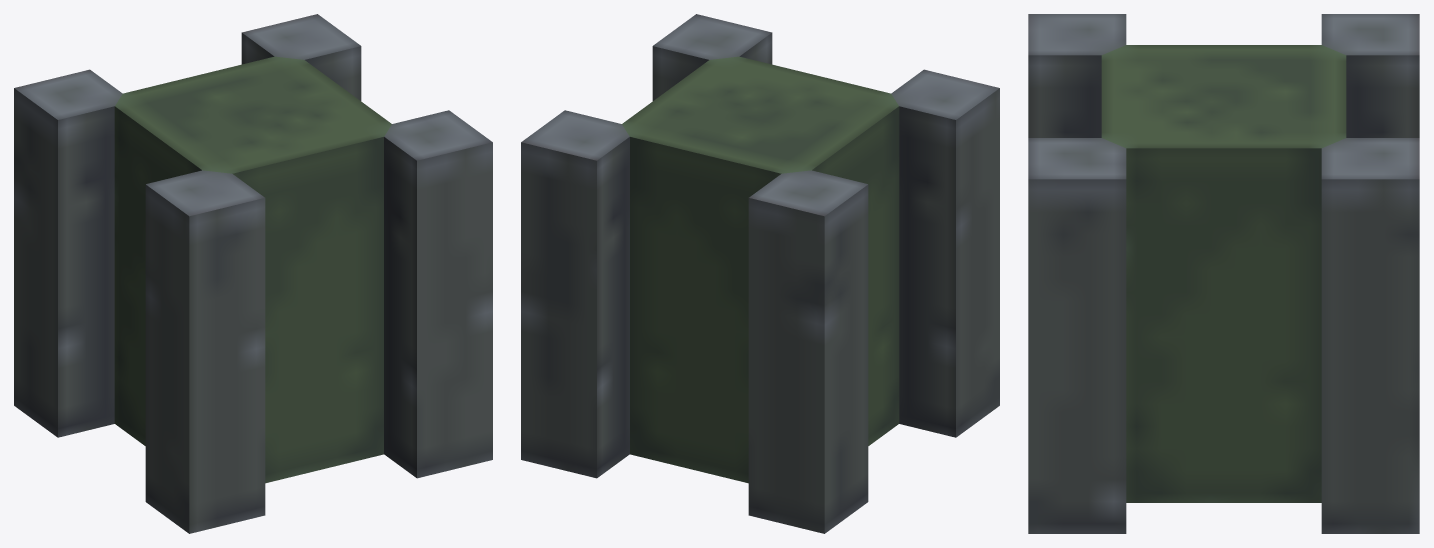
File: pillar_block_type_01_green.fbx
3 renders of one model, left to right at view 1: azimuth 30°, elevation 25°; view 2: azimuth 150°, elevation 25°; view 3: azimuth 270°, elevation 25°, orthographic. The views are drawn at different scales.
Parts seen in each view (by area): view 1: pillar_block_type_01_green; view 2: pillar_block_type_01_green; view 3: pillar_block_type_01_green.
Part boxes in pixels (left/top/right/bottom): pillar_block_type_01_green: left=14, top=14, right=492, bottom=533; pillar_block_type_01_green: left=521, top=14, right=999, bottom=533; pillar_block_type_01_green: left=1028, top=14, right=1419, bottom=533.
Bounding box in the file's own units: 16 × 16 × 16.
